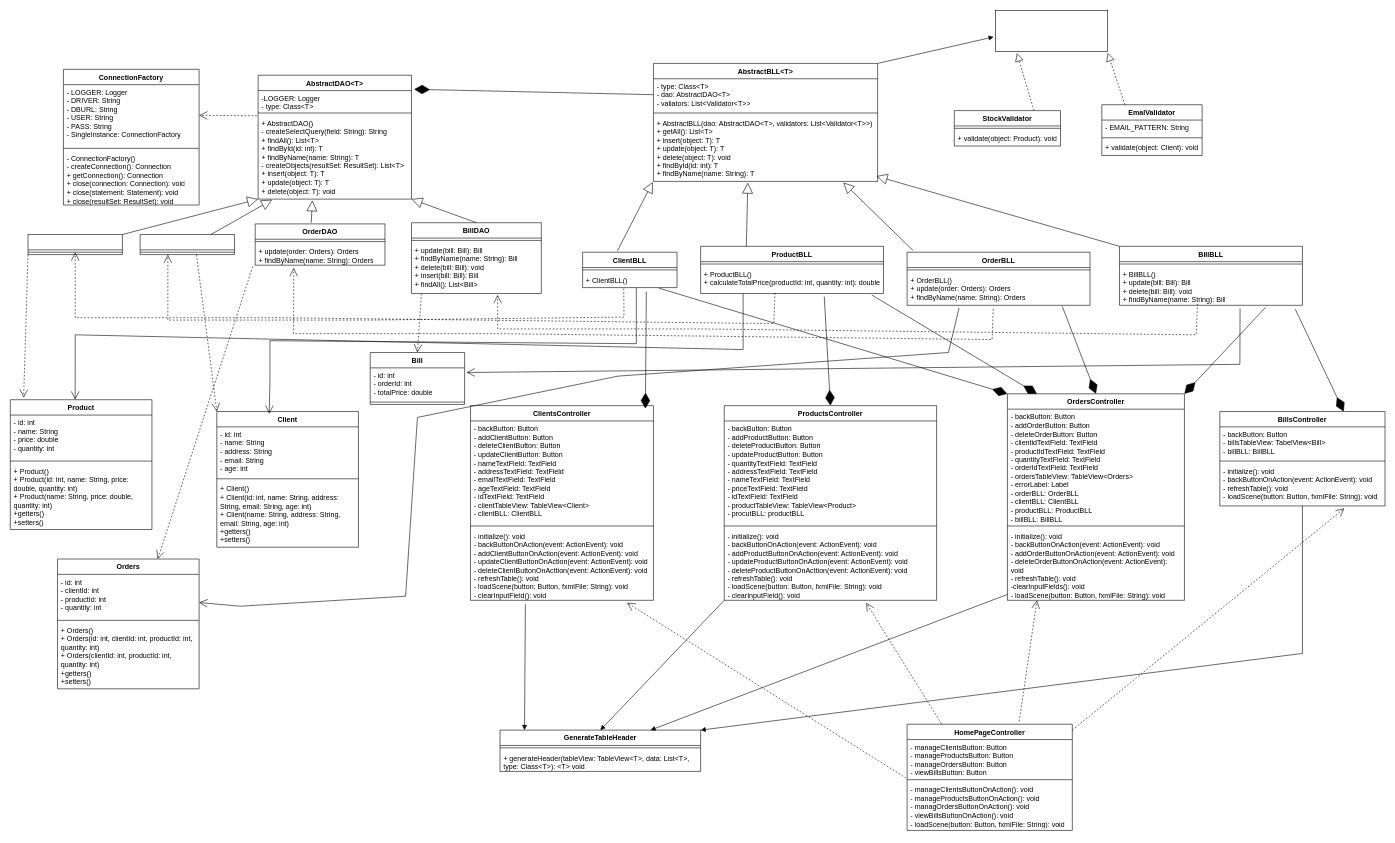
The diagram is 1395 pixels wide and 843 high, and some of its shapes have lost their labels. Here are the shapes that lost their labels. From the top down, the centre of each, then its label:
pixel 1051 31: <<Interface>> Validator<T> + validate(object: T): void
pixel 74 244: ProductDAO
pixel 187 244: ClientDAO
